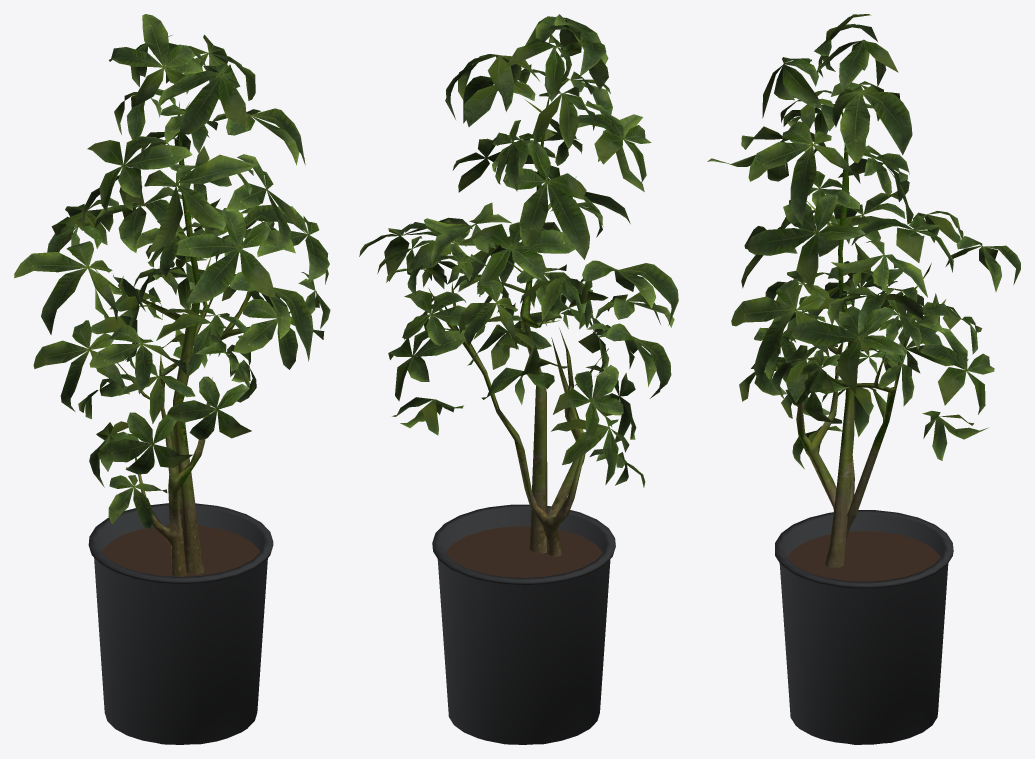
The model's file is arbol_dinero.glb.
3 renders of one model, left to right at view 1: azimuth 30°, elevation 25°; view 2: azimuth 150°, elevation 25°; view 3: azimuth 270°, elevation 25°, orthographic. The views are drawn at different scales.
Visible parts, largest first — view 1: pachira_aquatica_01_leaves_d, macetero, pachira_aquatica_01_bark_d, tierra; view 2: pachira_aquatica_01_leaves_d, macetero, pachira_aquatica_01_bark_d, tierra; view 3: pachira_aquatica_01_leaves_d, macetero, pachira_aquatica_01_bark_d, tierra.
Part boxes in pixels (x1,y1,x2,y2): pachira_aquatica_01_leaves_d: [14, 14, 330, 528]; macetero: [88, 503, 273, 744]; pachira_aquatica_01_bark_d: [91, 102, 290, 576]; tierra: [102, 525, 259, 576]; pachira_aquatica_01_leaves_d: [359, 14, 678, 487]; macetero: [432, 504, 615, 744]; pachira_aquatica_01_bark_d: [428, 97, 608, 556]; tierra: [445, 526, 602, 577]; pachira_aquatica_01_leaves_d: [707, 14, 1020, 469]; macetero: [775, 510, 953, 744]; pachira_aquatica_01_bark_d: [796, 110, 931, 567]; tierra: [787, 531, 940, 581].
Size of the model in its own units: 0.8945 by 2.05 by 0.8474.
Materials: 4 (2 with a texture image).
